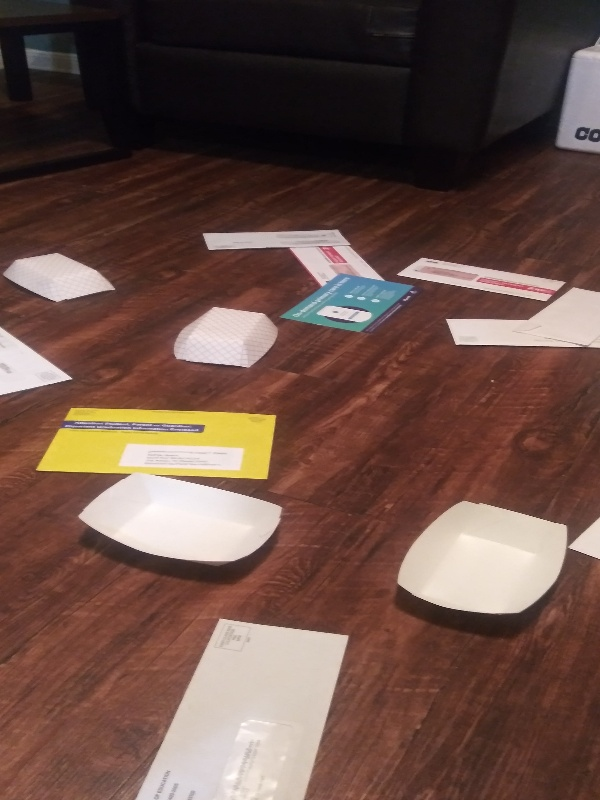plate: (72, 466, 286, 573), (394, 494, 571, 618), (167, 301, 282, 372), (1, 247, 119, 306)
